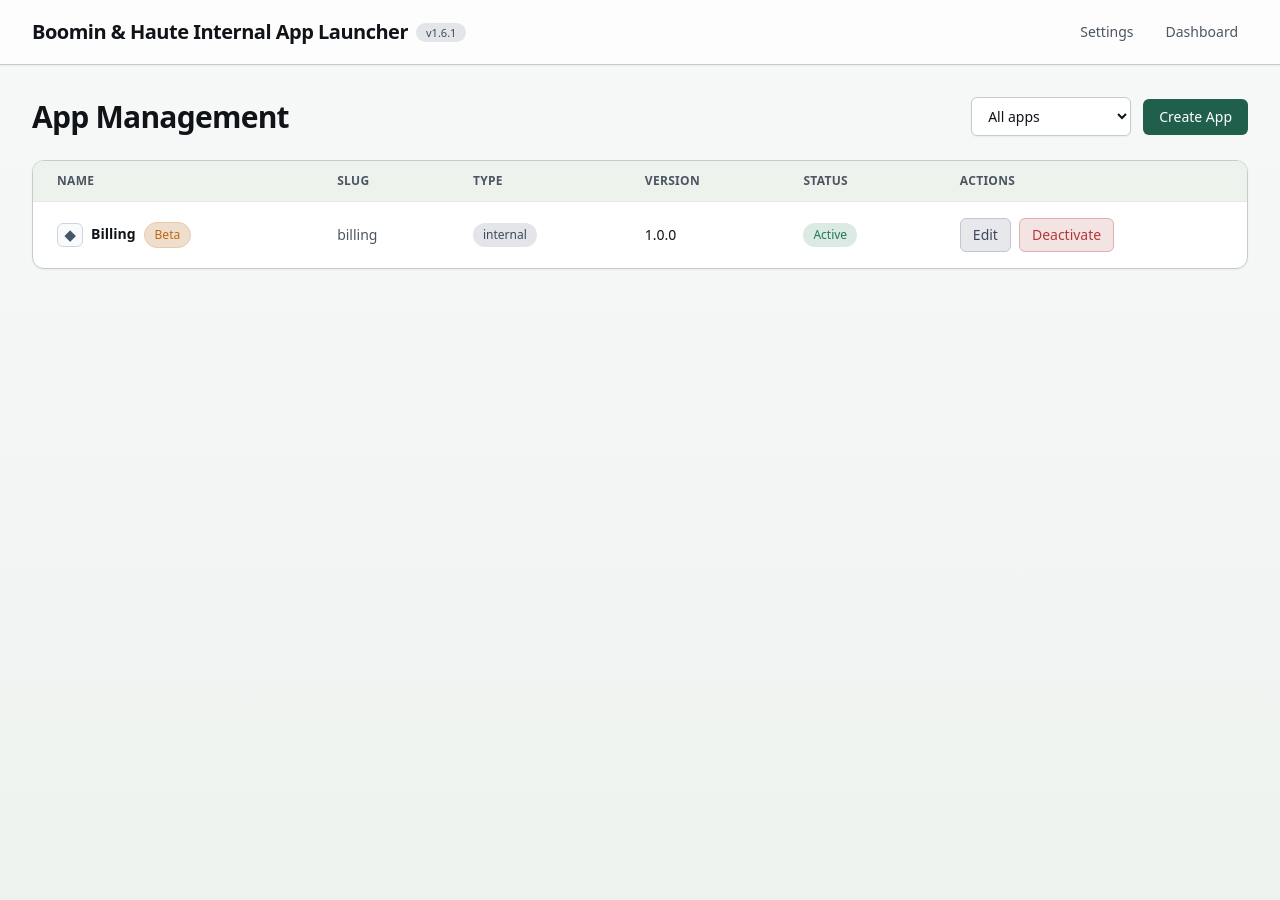
Test: AdminAppsPage modal close behavior › prompts before closing dirty edit form
This screenshot has width=1280, height=900.
Expected: the heading "App Management" is shown, [32, 98, 289, 134]
Click the button "Edit" at (985, 235), box [960, 218, 1011, 252]
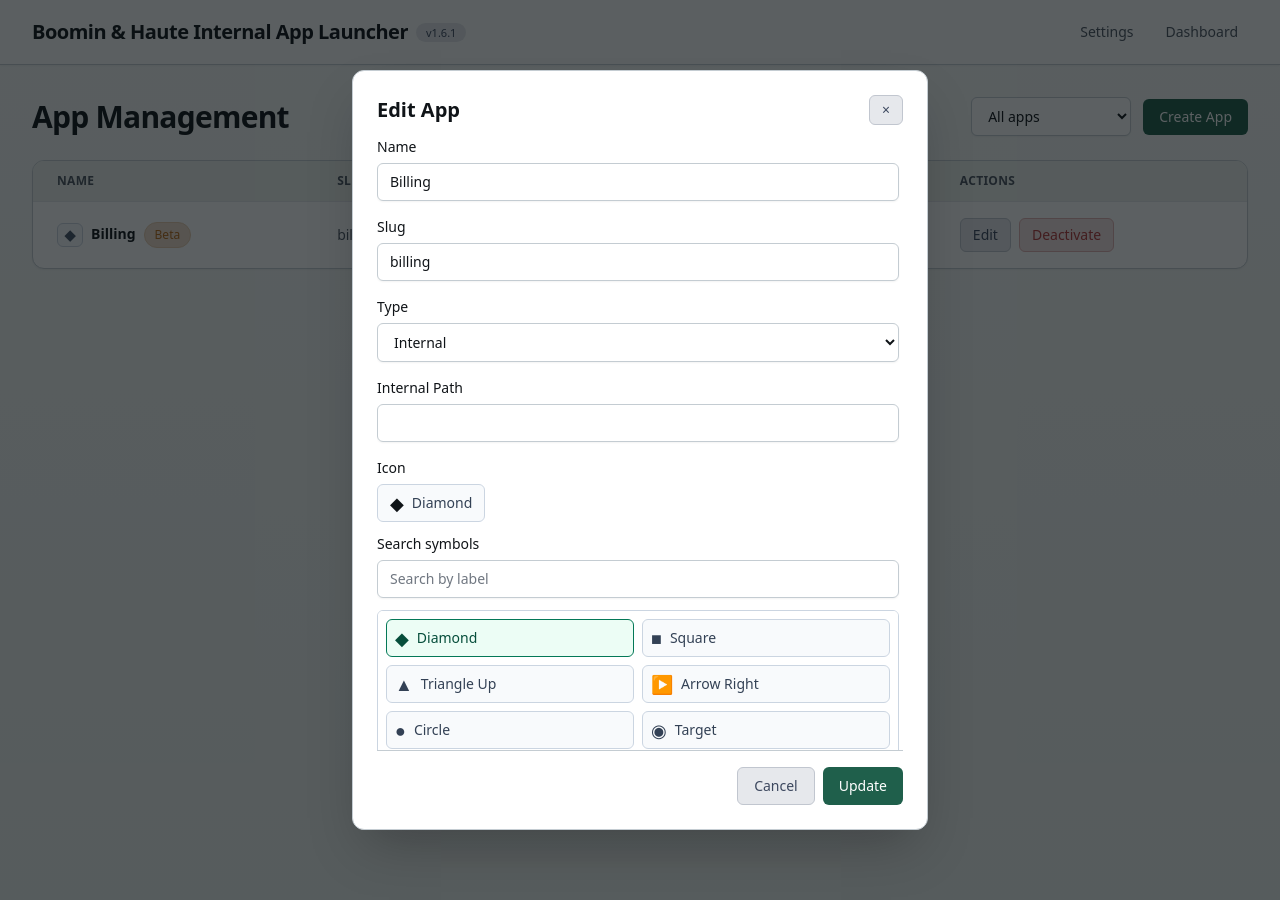
Expected: the dialog "Edit App" is shown
Replace the text in the field showing "Billing" with "Billing Updated" at (638, 182), box [377, 163, 899, 201]
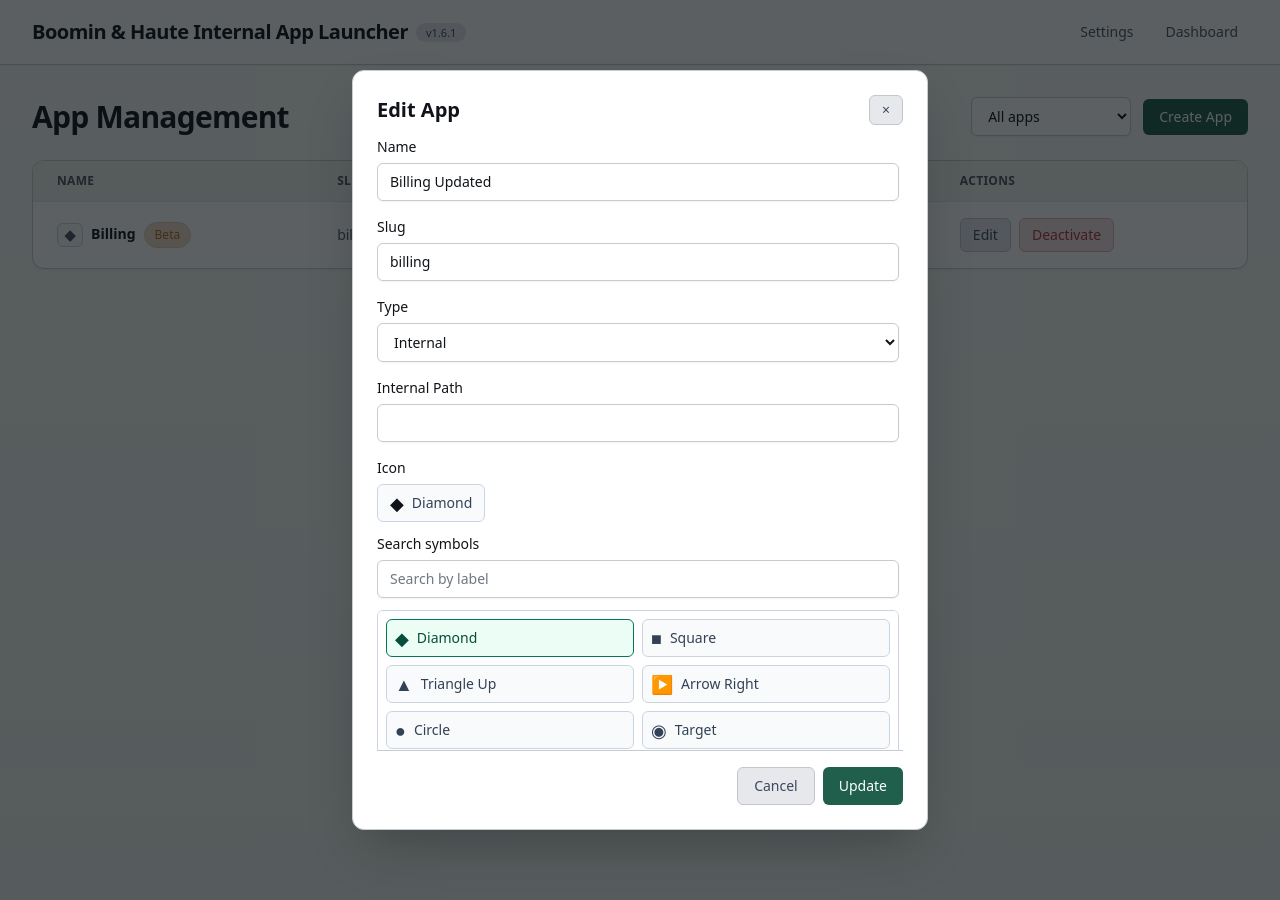
Press Escape
Expected: the dialog "Edit App" is shown
Press Escape
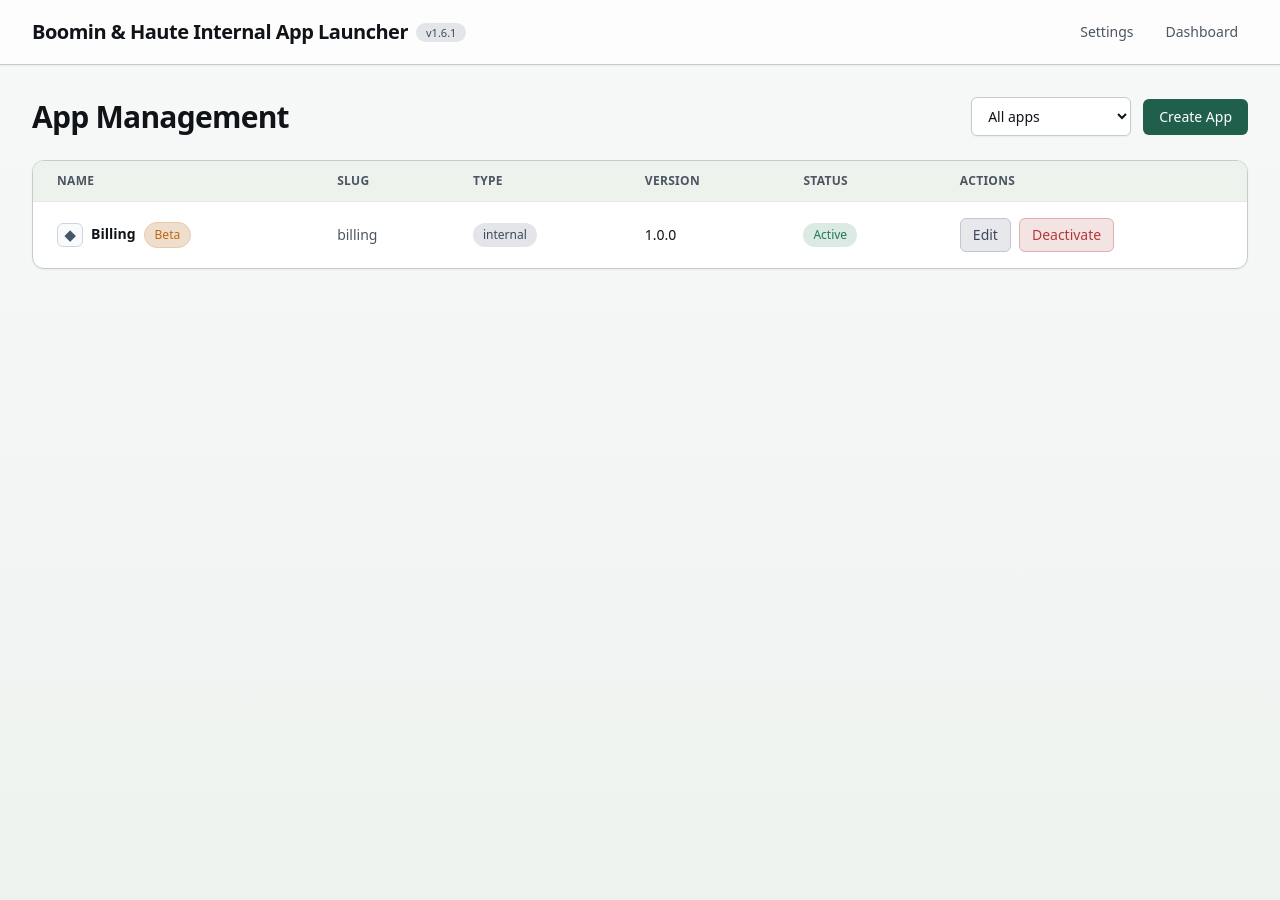
Expected: the heading "Edit App" is gone
